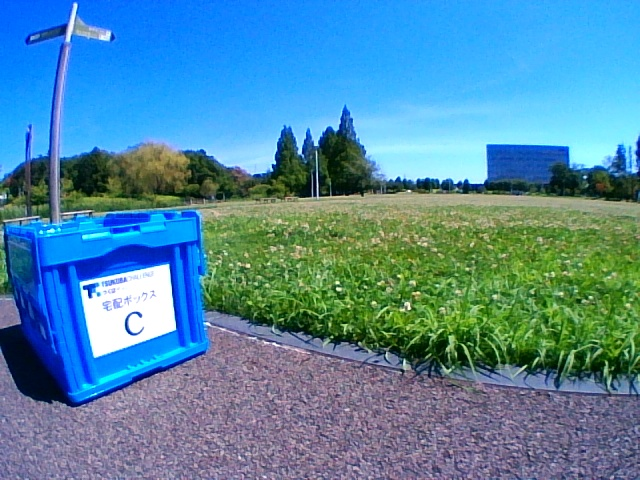blue_box: (4, 211, 207, 405)
tag_c: (95, 282, 154, 338)
